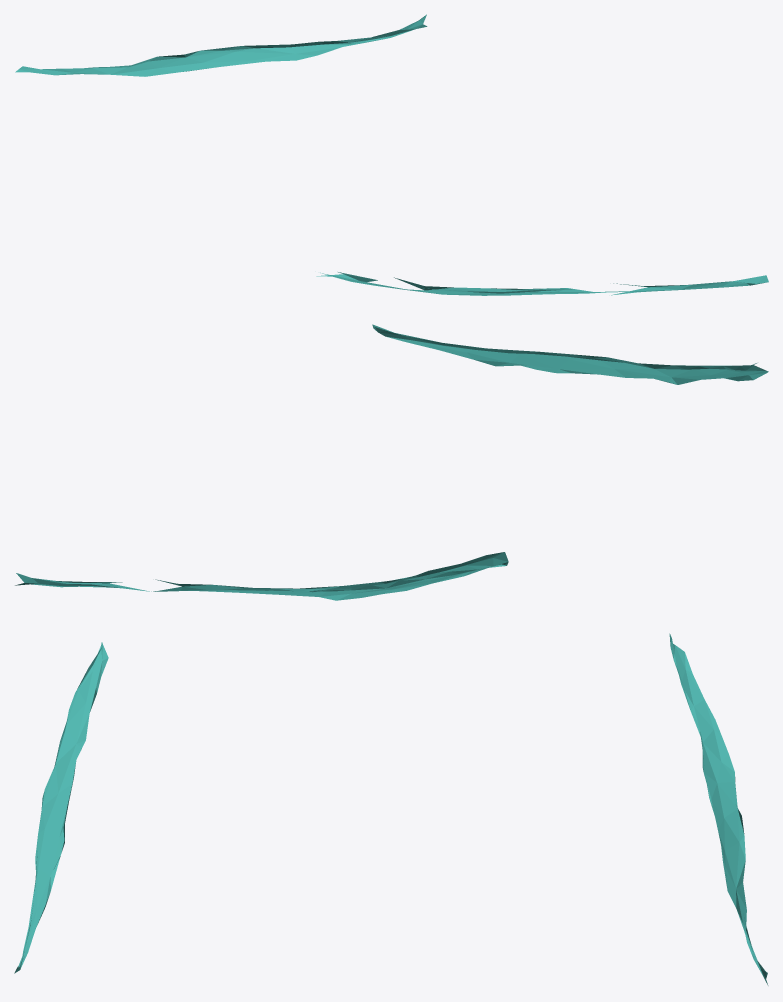
3 views of the same model, one above another, from view 1: azimuth 30°, elevation 25°; view 2: azimuth 150°, elevation 25°; view 3: azimuth 270°, elevation 25° (orthographic). The views are drawn at different scales.
Visible parts, largest first — view 1: 279.obj; view 2: 279.obj; view 3: 279.obj.
Boxes of the visible parts, bbox=[...] form: 279.obj: bbox=[15, 14, 768, 295]; 279.obj: bbox=[15, 324, 768, 600]; 279.obj: bbox=[14, 633, 768, 985].
Size of the model in its own units: 1908 by 454 by 2545.
